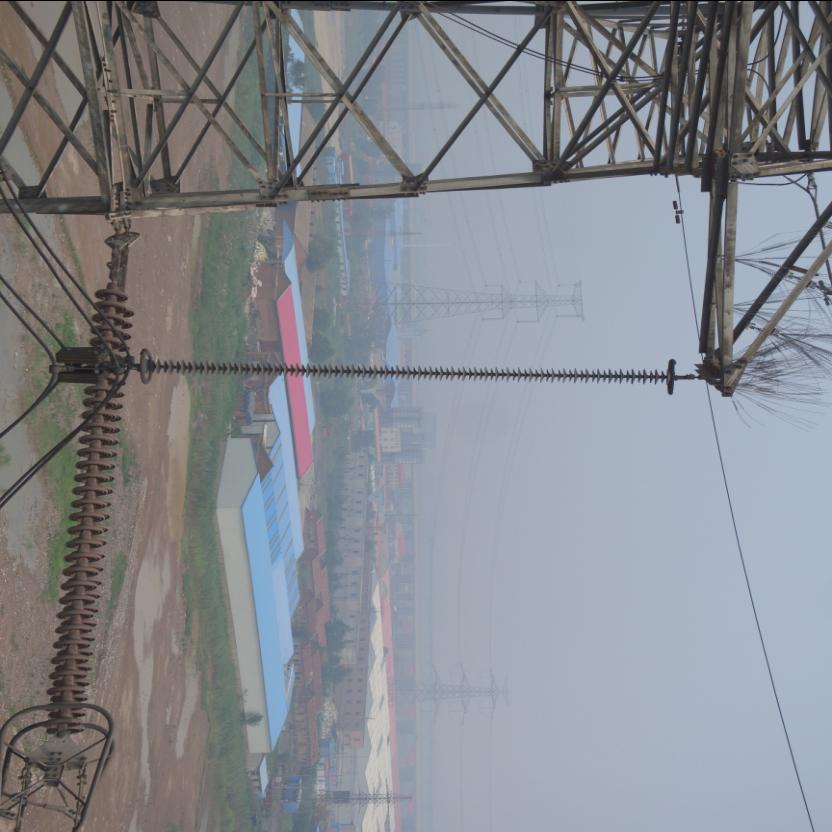insulator: (42, 257, 141, 746)
